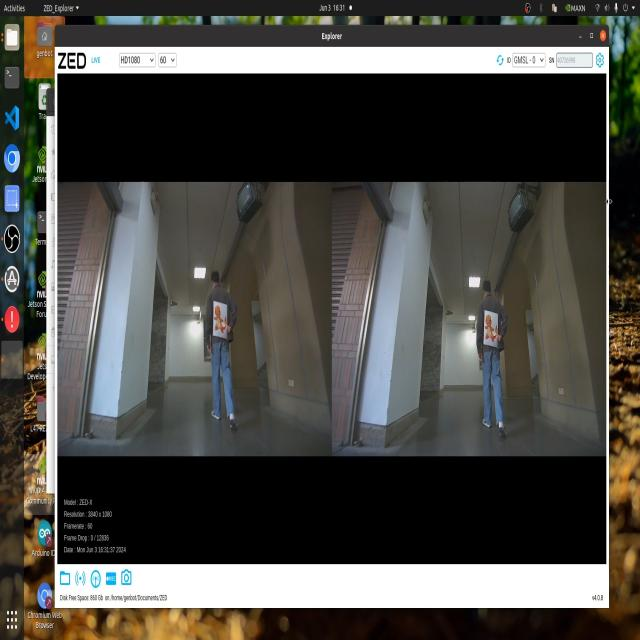red: (485, 307, 501, 354), (213, 299, 230, 341)
